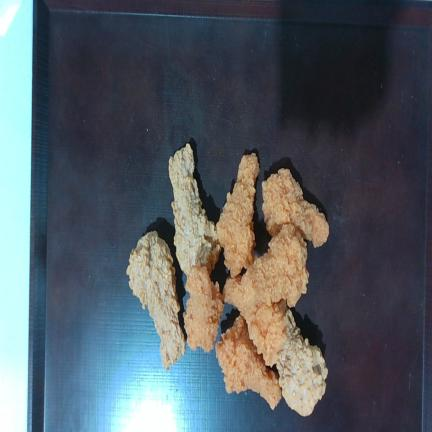chicken: (127, 232, 185, 370), (169, 143, 220, 275), (216, 315, 281, 409), (223, 273, 287, 366), (241, 225, 308, 307), (276, 310, 327, 415), (216, 153, 259, 277), (262, 168, 328, 247), (183, 265, 223, 352)
